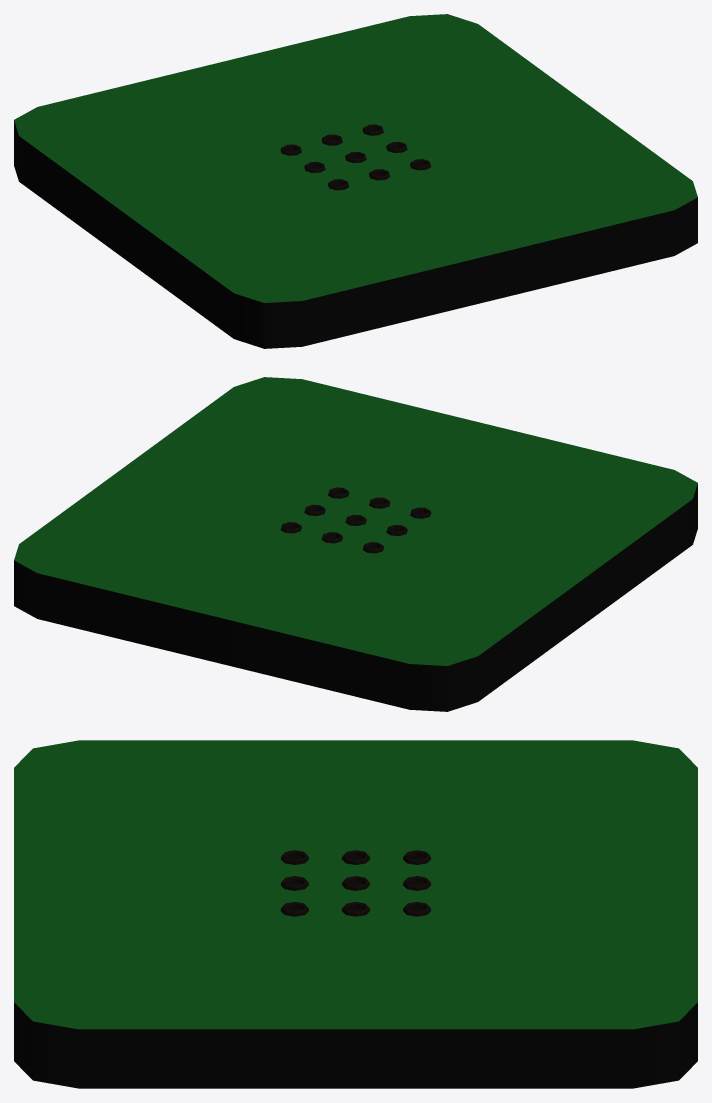
Rendered from Mesh_stage.fbx.
3 views of the same model, one above another, from view 1: azimuth 30°, elevation 25°; view 2: azimuth 150°, elevation 25°; view 3: azimuth 270°, elevation 25° (orthographic). The views are drawn at different scales.
Parts seen in each view (by area): view 1: Mesh_Stage; view 2: Mesh_Stage; view 3: Mesh_Stage.
Part boxes in pixels (left/top/right/bottom): Mesh_Stage: left=14, top=14, right=697, bottom=348; Mesh_Stage: left=14, top=377, right=697, bottom=711; Mesh_Stage: left=14, top=740, right=697, bottom=1088.
Size of the model in its own units: 3732 by 381 by 3732.
